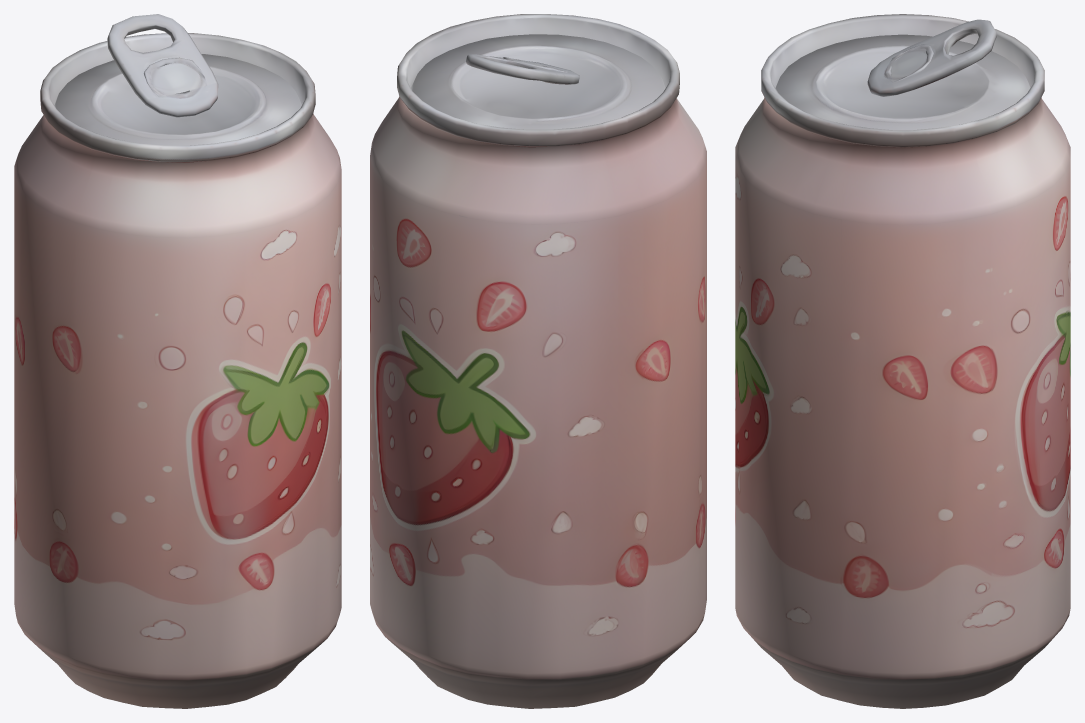
File: strawberry.fbx
The picture shows the model from 3 angles, left to right: view 1: azimuth 30°, elevation 25°; view 2: azimuth 150°, elevation 25°; view 3: azimuth 270°, elevation 25°; orthographic projection. The views are drawn at different scales.
Parts seen in each view (by area): view 1: part_0000, part_0001, part_0002; view 2: part_0000, part_0001; view 3: part_0000, part_0001.
Boxes of the visible parts, bbox=[...] form: part_0000: bbox=[14, 33, 341, 708]; part_0001: bbox=[107, 14, 218, 117]; part_0002: bbox=[144, 57, 206, 97]; part_0000: bbox=[370, 14, 706, 708]; part_0001: bbox=[466, 54, 579, 84]; part_0000: bbox=[735, 14, 1070, 708]; part_0001: bbox=[867, 19, 996, 96].
Size of the model in its own units: 55.11 by 113 by 54.67.
Materials: 1 (1 with a texture image).
